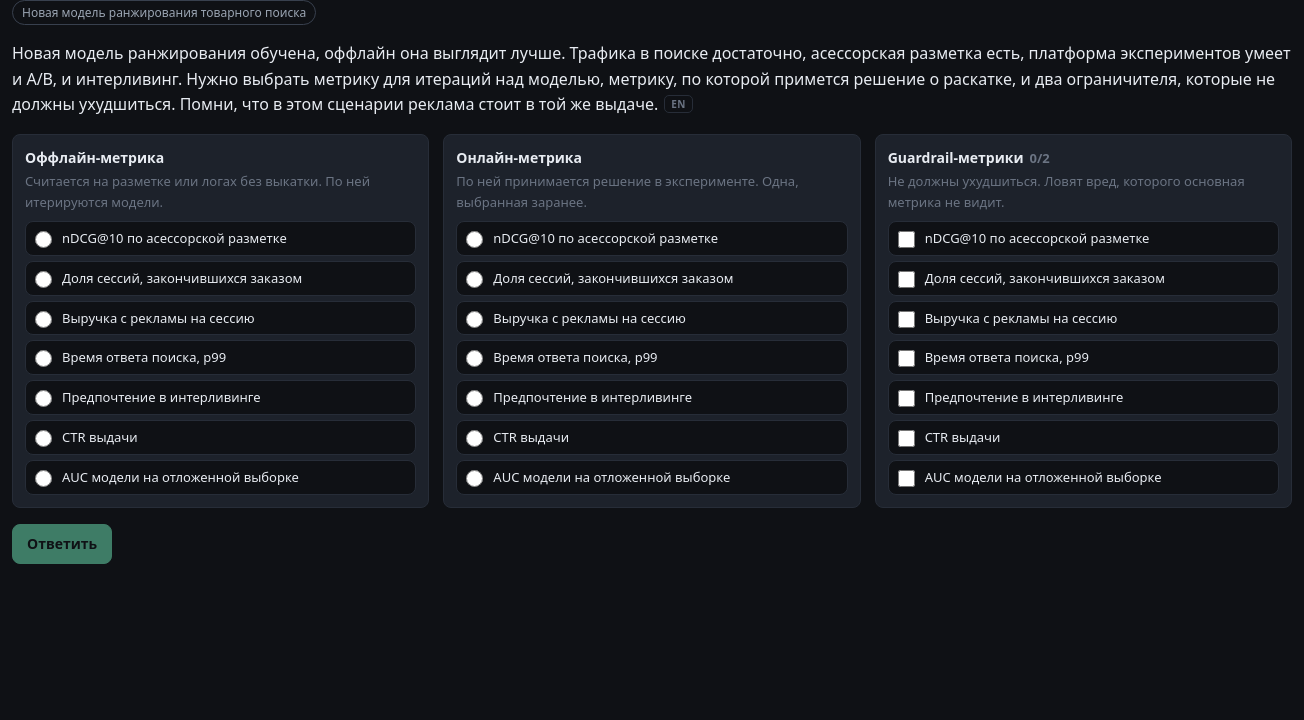
Scenario: metric choice trainer › accepts a defensible answer in every slot
Click the radio button labelled "nDCG@10 по асессорской разметке" below "Оффлайн-метрика". click: (44, 240)
box: [35,231,52,248]
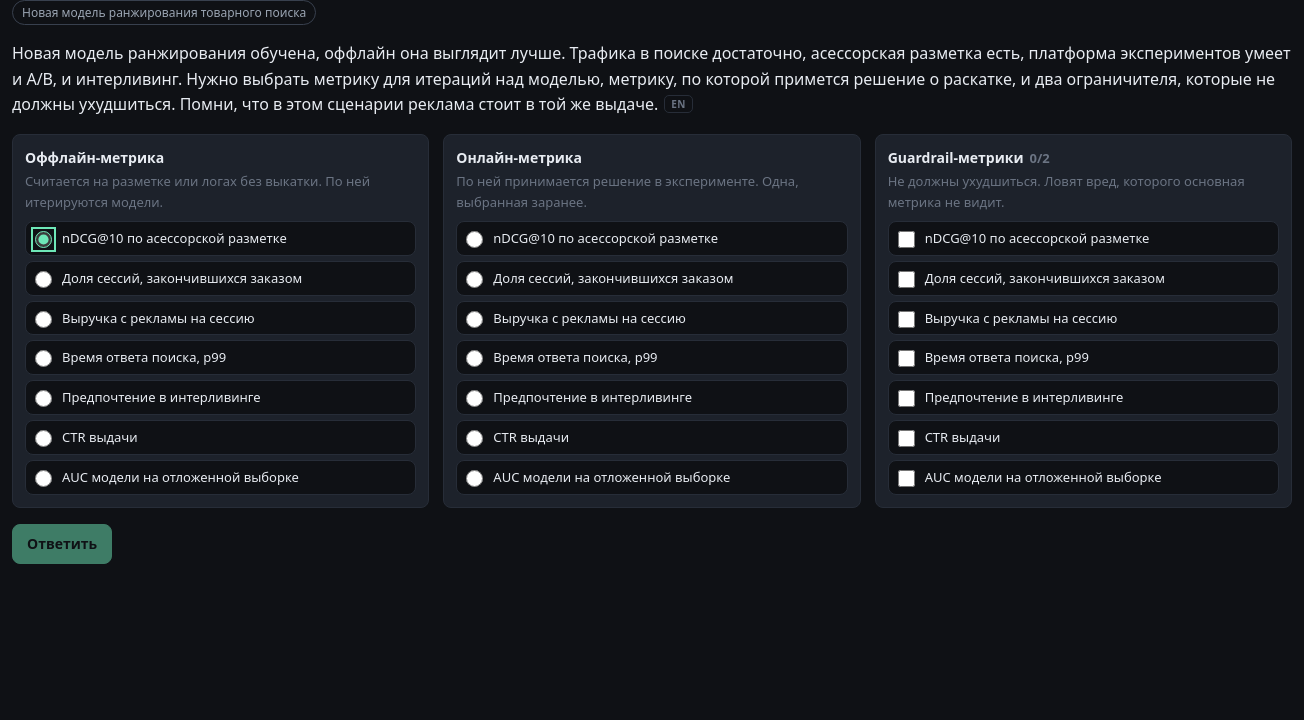
Click the radio button labelled "Доля сессий, закончившихся заказом" below "Онлайн-метрика". click: (475, 279)
box: [466,271,483,288]
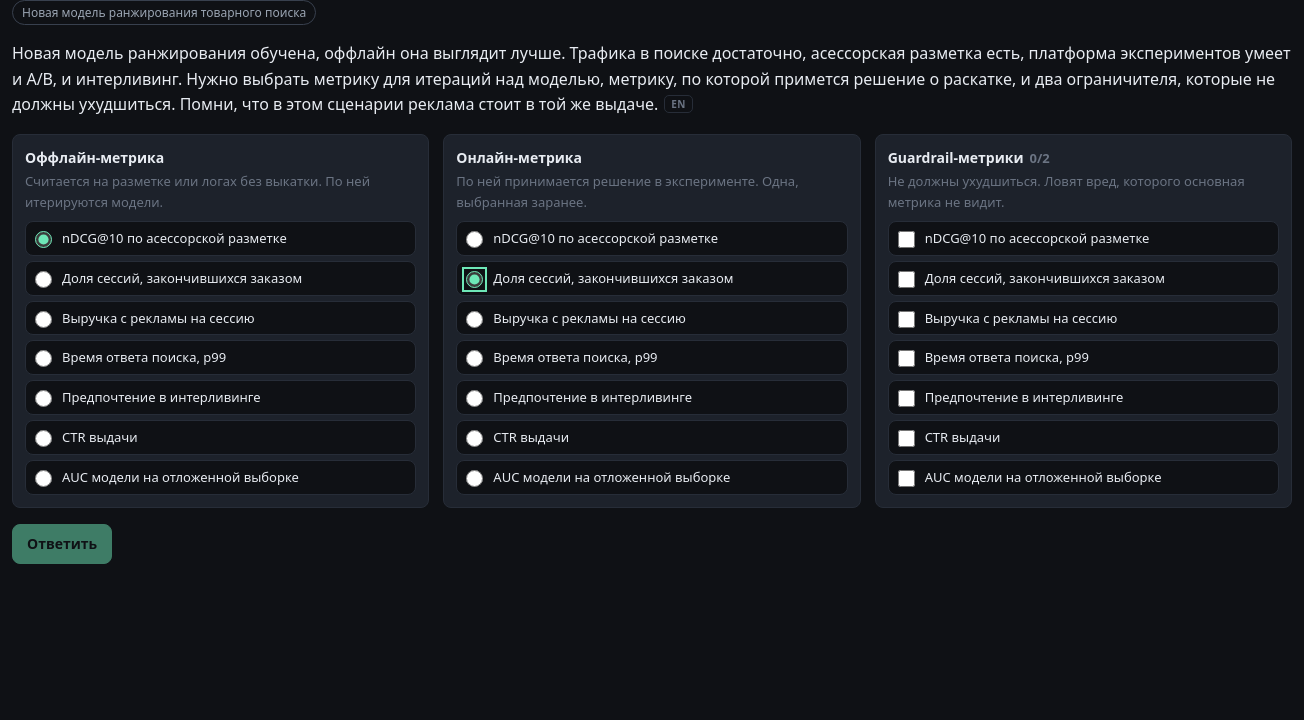
Click the checkbox labelled "Выручка с рекламы на сессию". click: (906, 319)
box: [898,310,915,328]
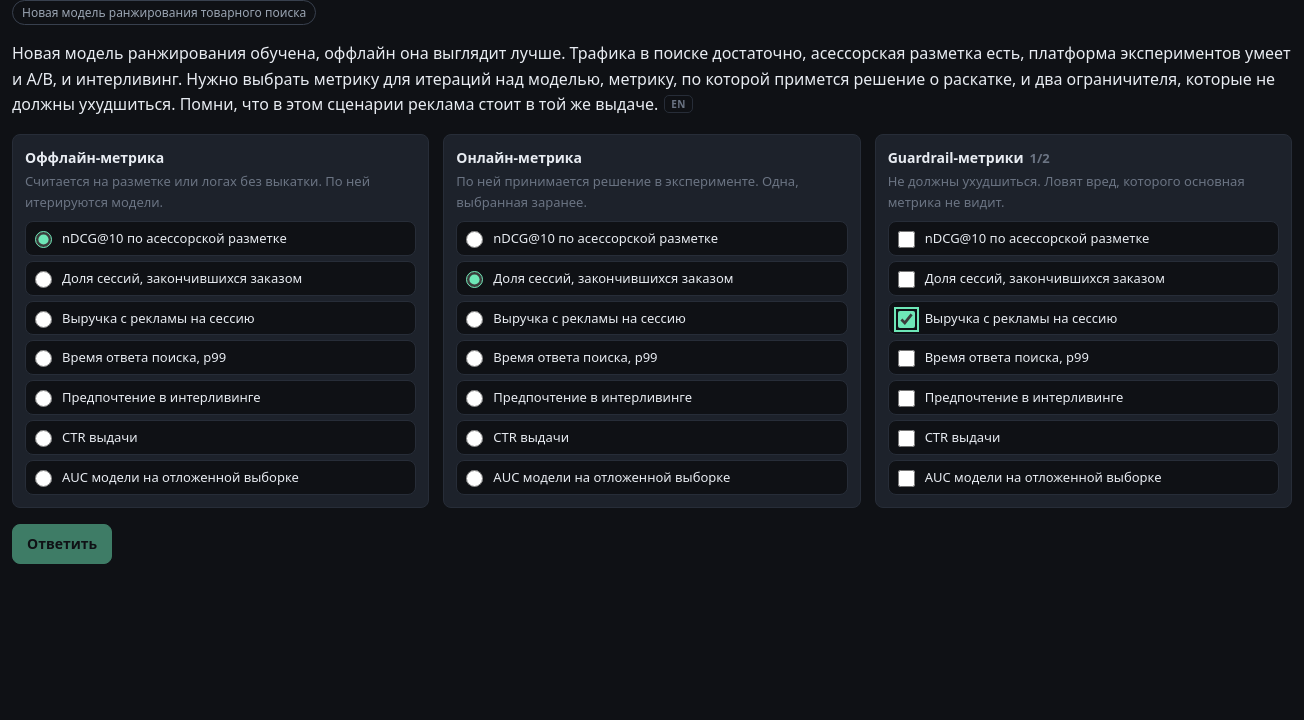
Click the checkbox labelled "Время ответа поиска, p99". click: (906, 359)
box: [898,350,915,367]
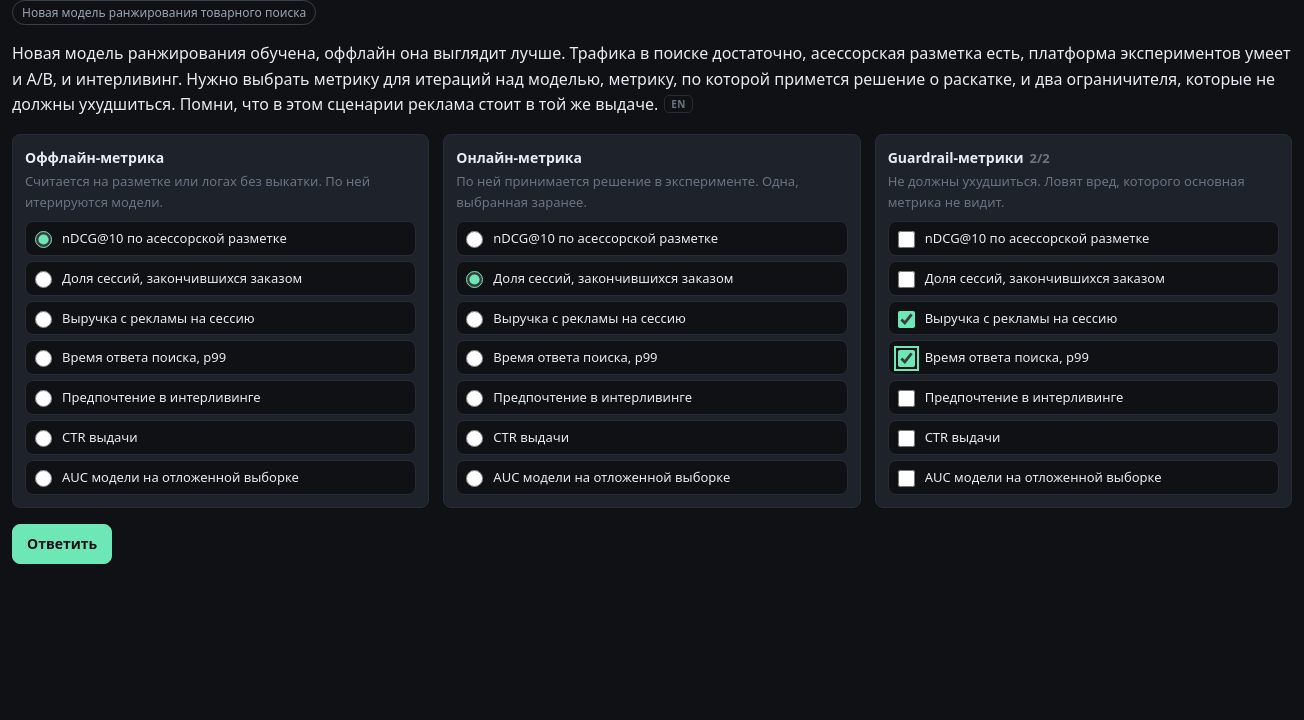
expect the button "Ответить" is enabled: met
Click the button "Ответить". click: (62, 544)
box: [12,524,112,564]
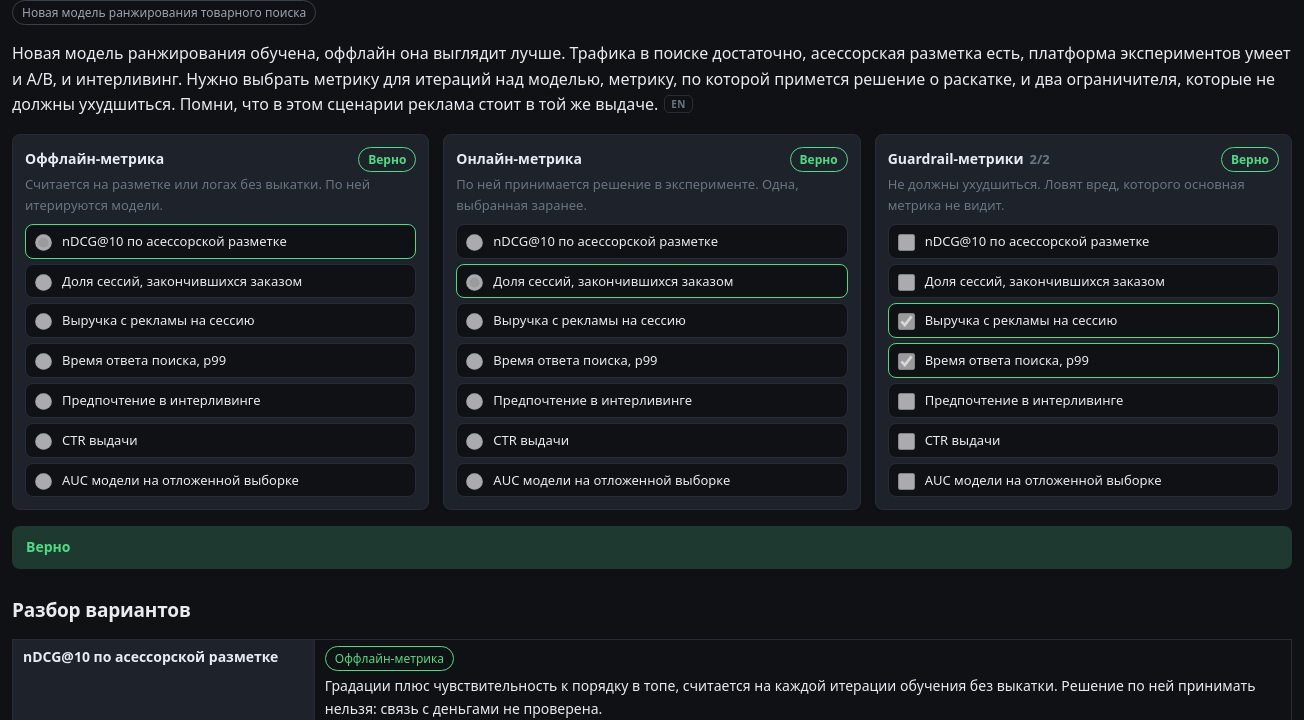
expect the 4th text "Верно" is shown: met, box [12,526,1292,569]
